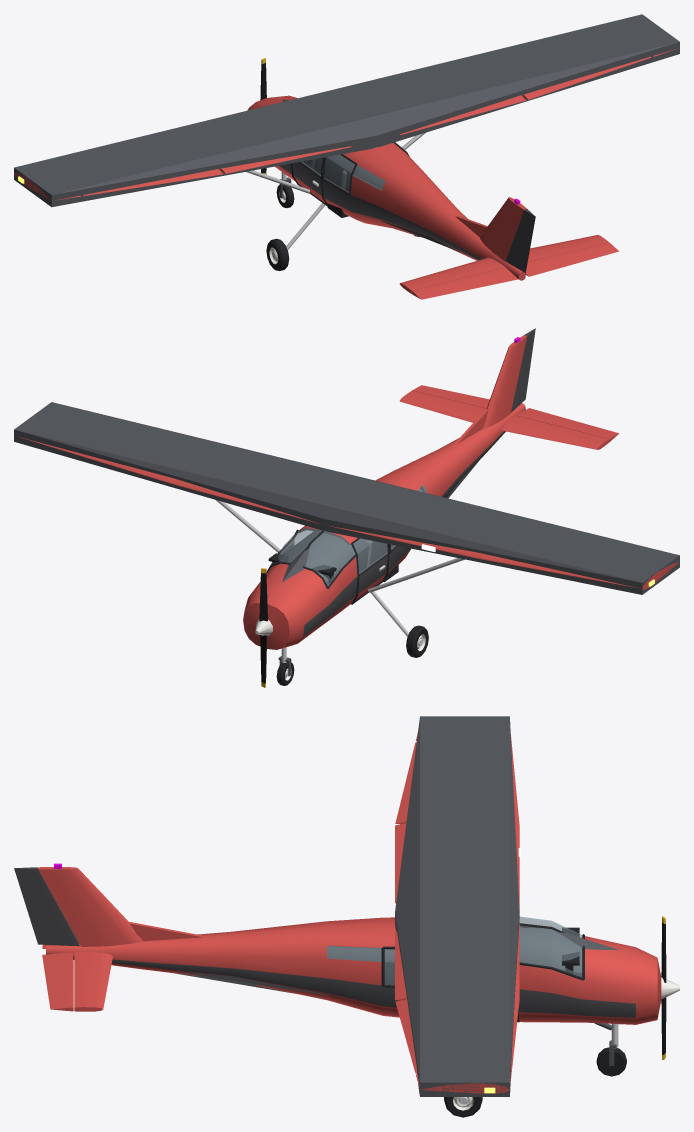
File: plane_prop.glb
3 renders of one model, top to bottom at view 1: azimuth 30°, elevation 25°; view 2: azimuth 150°, elevation 25°; view 3: azimuth 270°, elevation 25°, orthographic. The views are drawn at different scales.
Visible parts, largest first — view 1: plane_prop__col_wing, plane_prop__body, plane_prop__elevator, plane_prop__col_body, plane_prop__rudder, plane_prop__door_fl, plane_prop__aileron_r, plane_prop__aileron_l, plane_prop__wheel_l; view 2: plane_prop__col_wing, plane_prop__body, plane_prop__col_body, plane_prop__elevator, plane_prop__door_fl, plane_prop__prop, plane_prop__rudder, plane_prop__wheel_l; view 3: plane_prop__col_wing, plane_prop__body, plane_prop__col_body, plane_prop__rudder, plane_prop__elevator, plane_prop__prop, plane_prop__wheel_n, plane_prop__wheel_r.
Part boxes in pixels (<box>): plane_prop__col_wing: <box>14,14,679,207</box>; plane_prop__body: <box>14,49,675,293</box>; plane_prop__elevator: <box>412,242,618,299</box>; plane_prop__col_body: <box>282,99,460,252</box>; plane_prop__rudder: <box>505,209,535,272</box>; plane_prop__door_fl: <box>291,157,327,206</box>; plane_prop__aileron_r: <box>523,56,651,99</box>; plane_prop__aileron_l: <box>83,169,223,195</box>; plane_prop__wheel_l: <box>266,238,289,270</box>; plane_prop__col_wing: <box>14,402,679,594</box>; plane_prop__body: <box>19,335,679,676</box>; plane_prop__col_body: <box>282,461,478,585</box>; plane_prop__elevator: <box>412,385,618,441</box>; plane_prop__door_fl: <box>351,538,389,604</box>; plane_prop__prop: <box>255,568,272,687</box>; plane_prop__rudder: <box>511,328,535,412</box>; plane_prop__wheel_l: <box>406,625,428,657</box>; plane_prop__col_wing: <box>395,716,519,1096</box>; plane_prop__body: <box>38,732,661,1093</box>; plane_prop__col_body: <box>169,928,619,995</box>; plane_prop__rudder: <box>14,867,79,946</box>; plane_prop__elevator: <box>42,944,73,1011</box>; plane_prop__prop: <box>661,916,679,1059</box>; plane_prop__wheel_n: <box>596,1047,626,1076</box>; plane_prop__wheel_r: <box>444,1097,482,1117</box>.
Size of what is drawn, in the model's own units: 10.87 by 2.9 by 8.3.
Materials: 8 (2 with a texture image).
